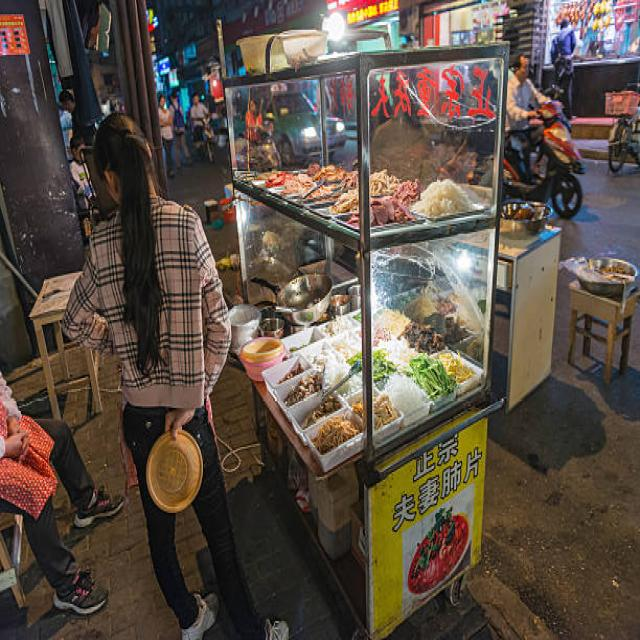Emperan: (203, 30, 521, 640)
